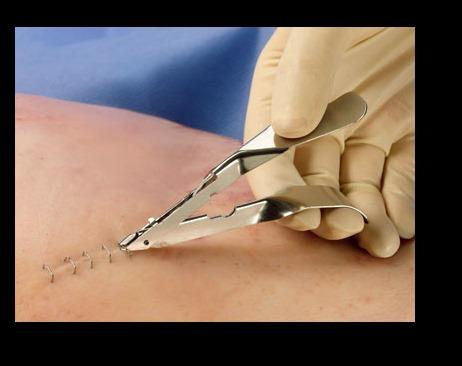Stapler Remover: (118, 91, 373, 252)
